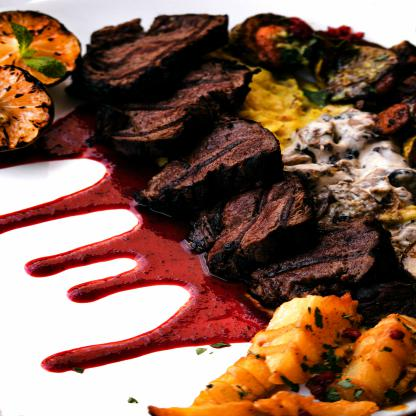Carne: (97, 52, 251, 170), (71, 11, 233, 113), (250, 215, 399, 311), (141, 118, 281, 218), (208, 173, 322, 276)
